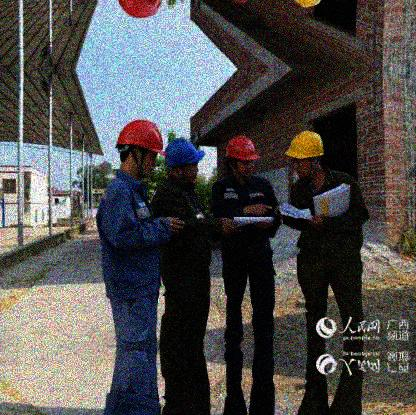helmet: (118, 119, 166, 180), (284, 132, 325, 180), (164, 138, 206, 184), (224, 134, 258, 179)
